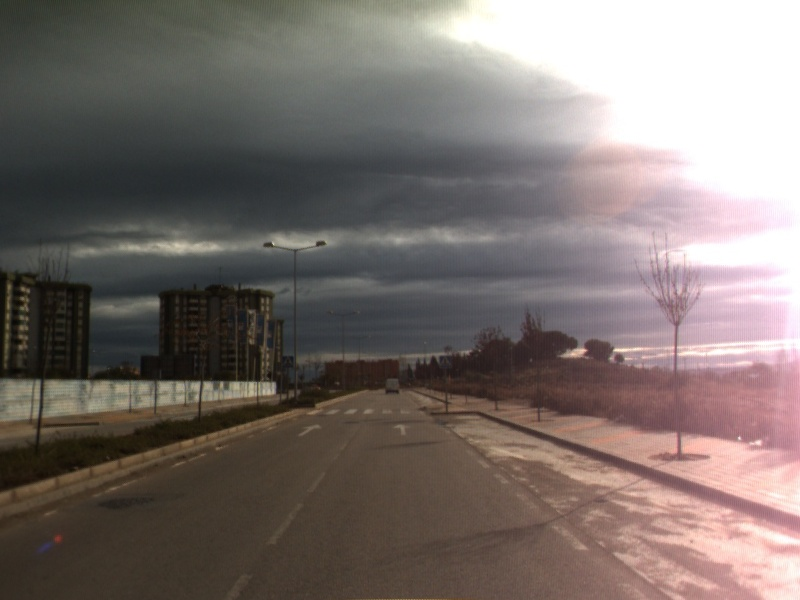STRAIGHT: (296, 422, 325, 438), (391, 421, 414, 437)
